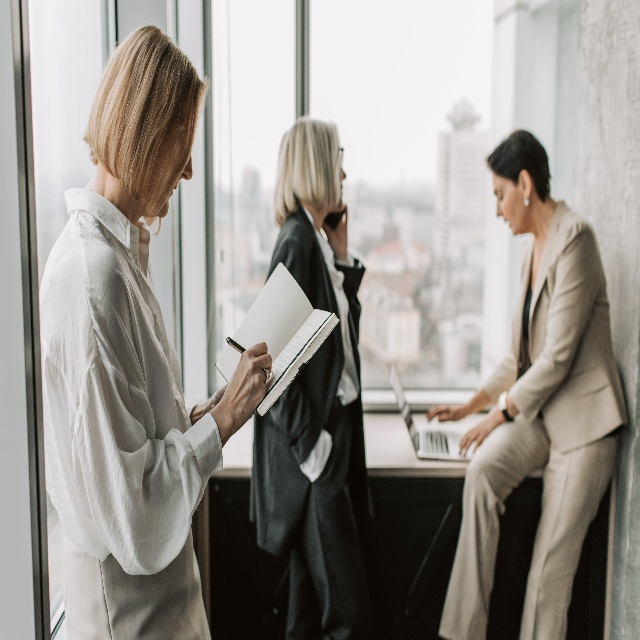Gafas: (338, 147, 344, 168)
Sin_guantes: (222, 341, 273, 429), (458, 410, 500, 457), (323, 201, 348, 255), (426, 403, 467, 423)
